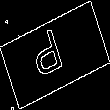P_S: (34, 24, 76, 86)
